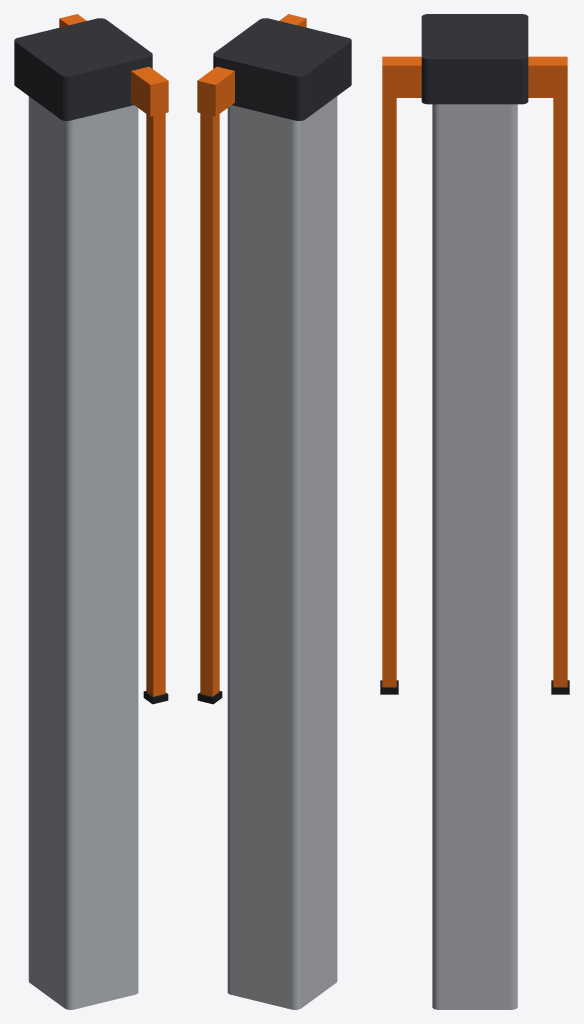
3 views of the same model, side by side, from view 1: azimuth 30°, elevation 25°; view 2: azimuth 150°, elevation 25°; view 3: azimuth 270°, elevation 25° (orthographic).
Parts seen in each view (by area): view 1: piece (×5); view 2: piece (×5); view 3: piece (×7).
Boxes of the visible parts, left/top/right/bottom form: piece (×5): left=14, top=18, right=168, bottom=1009; piece (×5): left=197, top=18, right=351, bottom=1009; piece (×7): left=382, top=14, right=567, bottom=1009.
Size of the model in its own units: 0.15 by 0.266 by 1.48.
